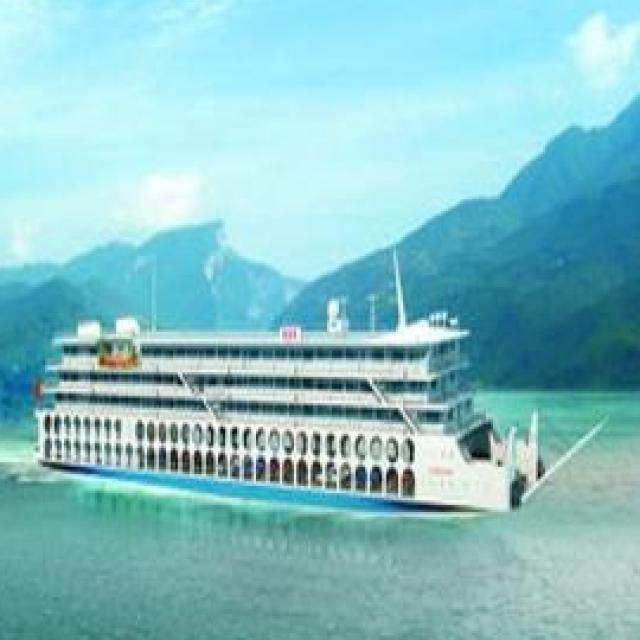passenger ship: (26, 283, 564, 511)
